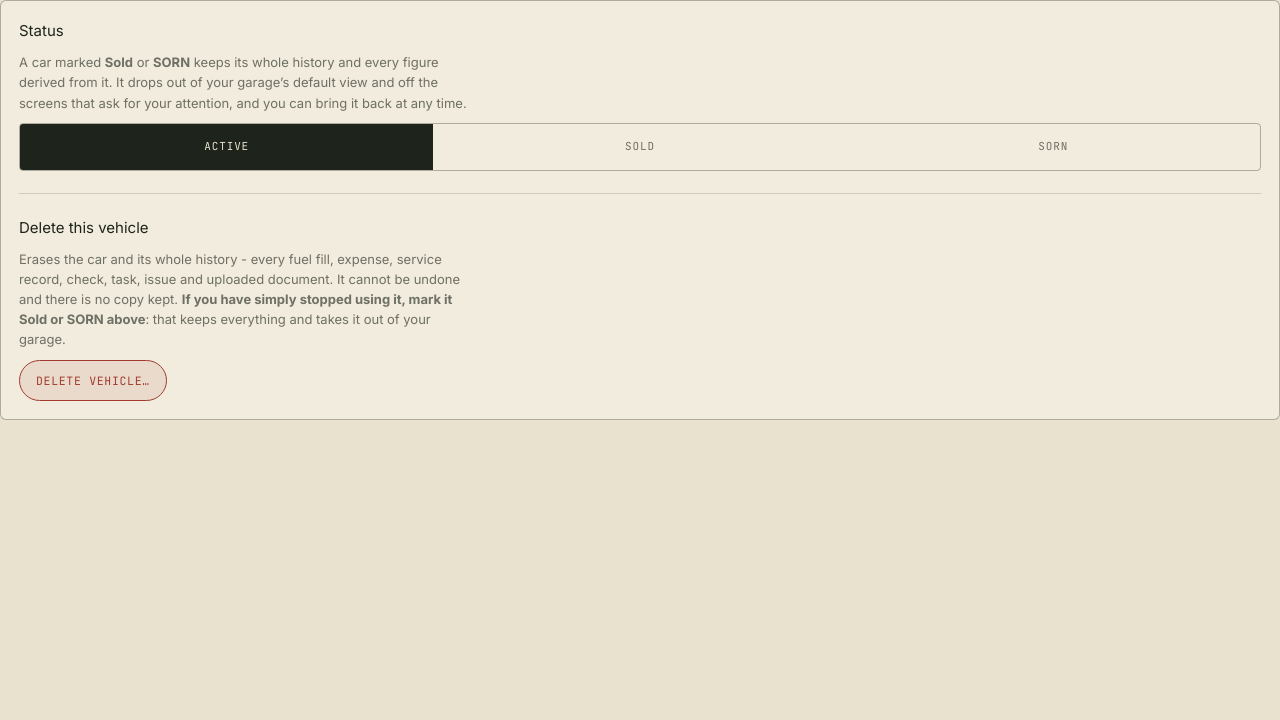
deleting a vehicle › states the weight before it arms
Click the button "Delete vehicle…". click: point(93, 380)
box: top-left (19, 360), bottom-right (167, 401)
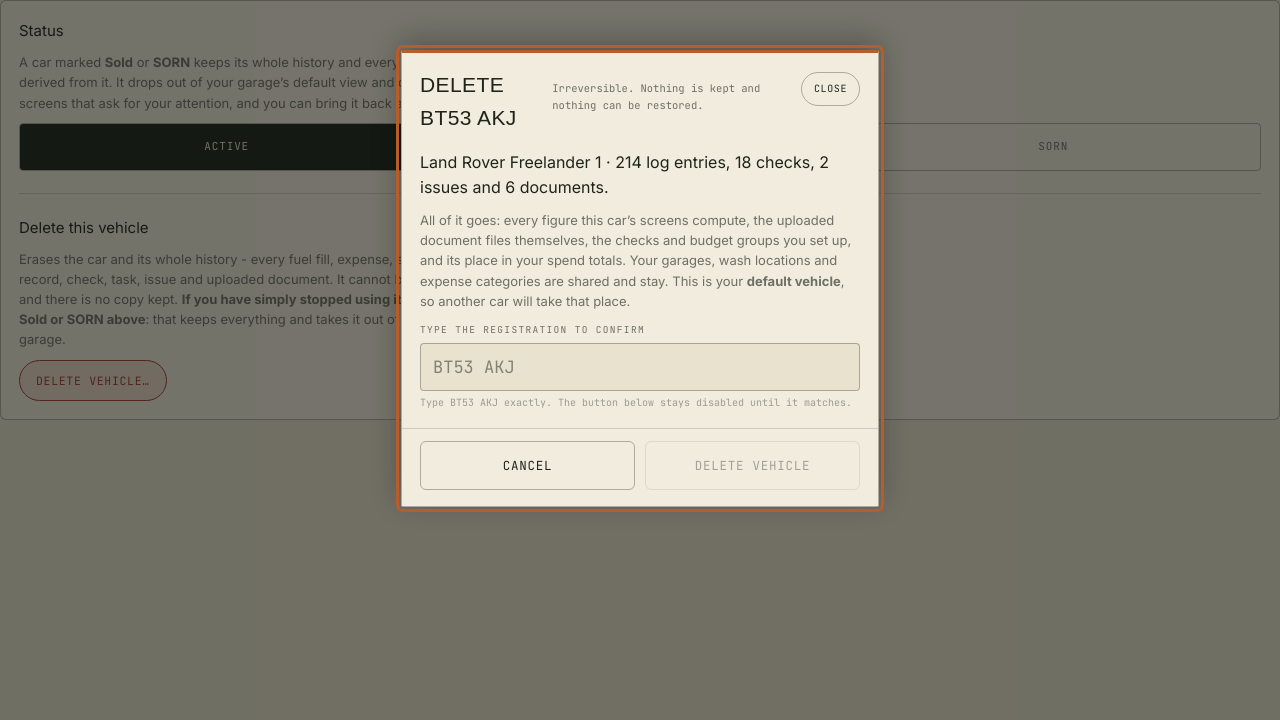
expect the text "214 log entries, 18 checks, 2 issues and 6 documents" is shown: met, box top-left (420, 150), bottom-right (860, 200)
expect the text "default vehicle" is shown: met, box top-left (747, 272), bottom-right (841, 288)
expect the button "Delete vehicle" is disabled: met, box top-left (645, 441), bottom-right (860, 490)
